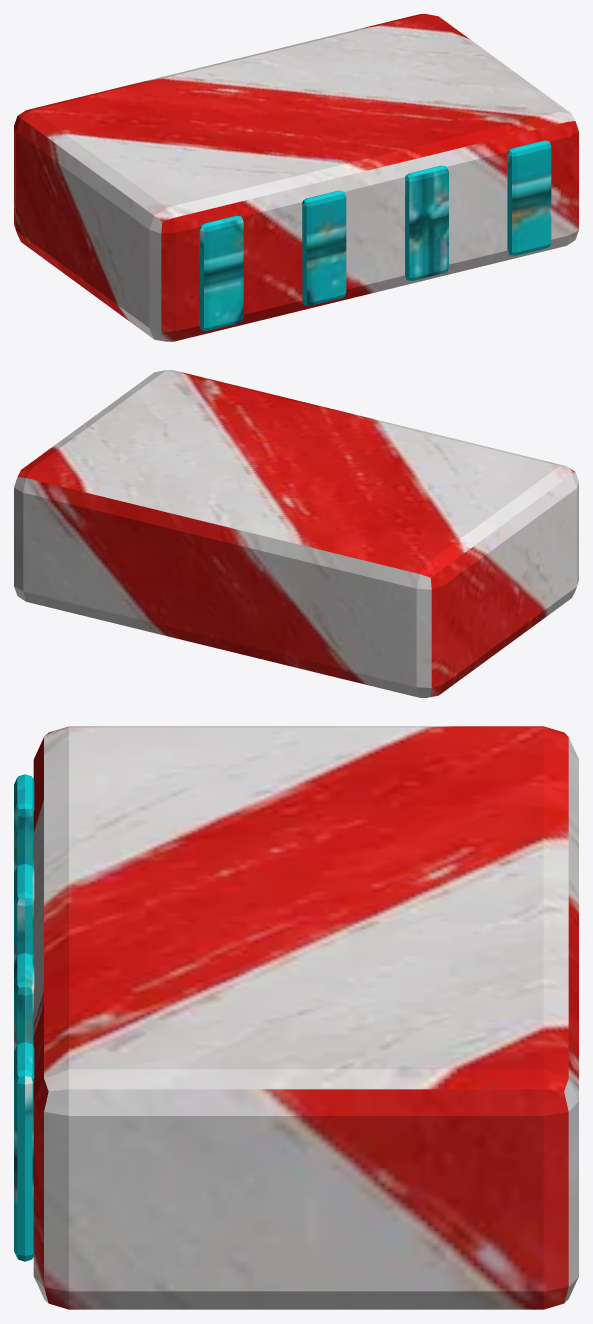
Rendered from bordillo.glb.
3 renders of one model, top to bottom at view 1: azimuth 30°, elevation 25°; view 2: azimuth 150°, elevation 25°; view 3: azimuth 270°, elevation 25°, orthographic. The views are drawn at different scales.
Visible parts, largest first — view 1: bordillo; view 2: bordillo; view 3: bordillo.
Part boxes in pixels (x1,y1,x2,y2): bordillo: [14, 14, 578, 341]; bordillo: [14, 370, 578, 697]; bordillo: [14, 726, 578, 1309].
Size of the model in its own units: 1 by 0.3 by 0.6425.
2 materials, 2 textured.
